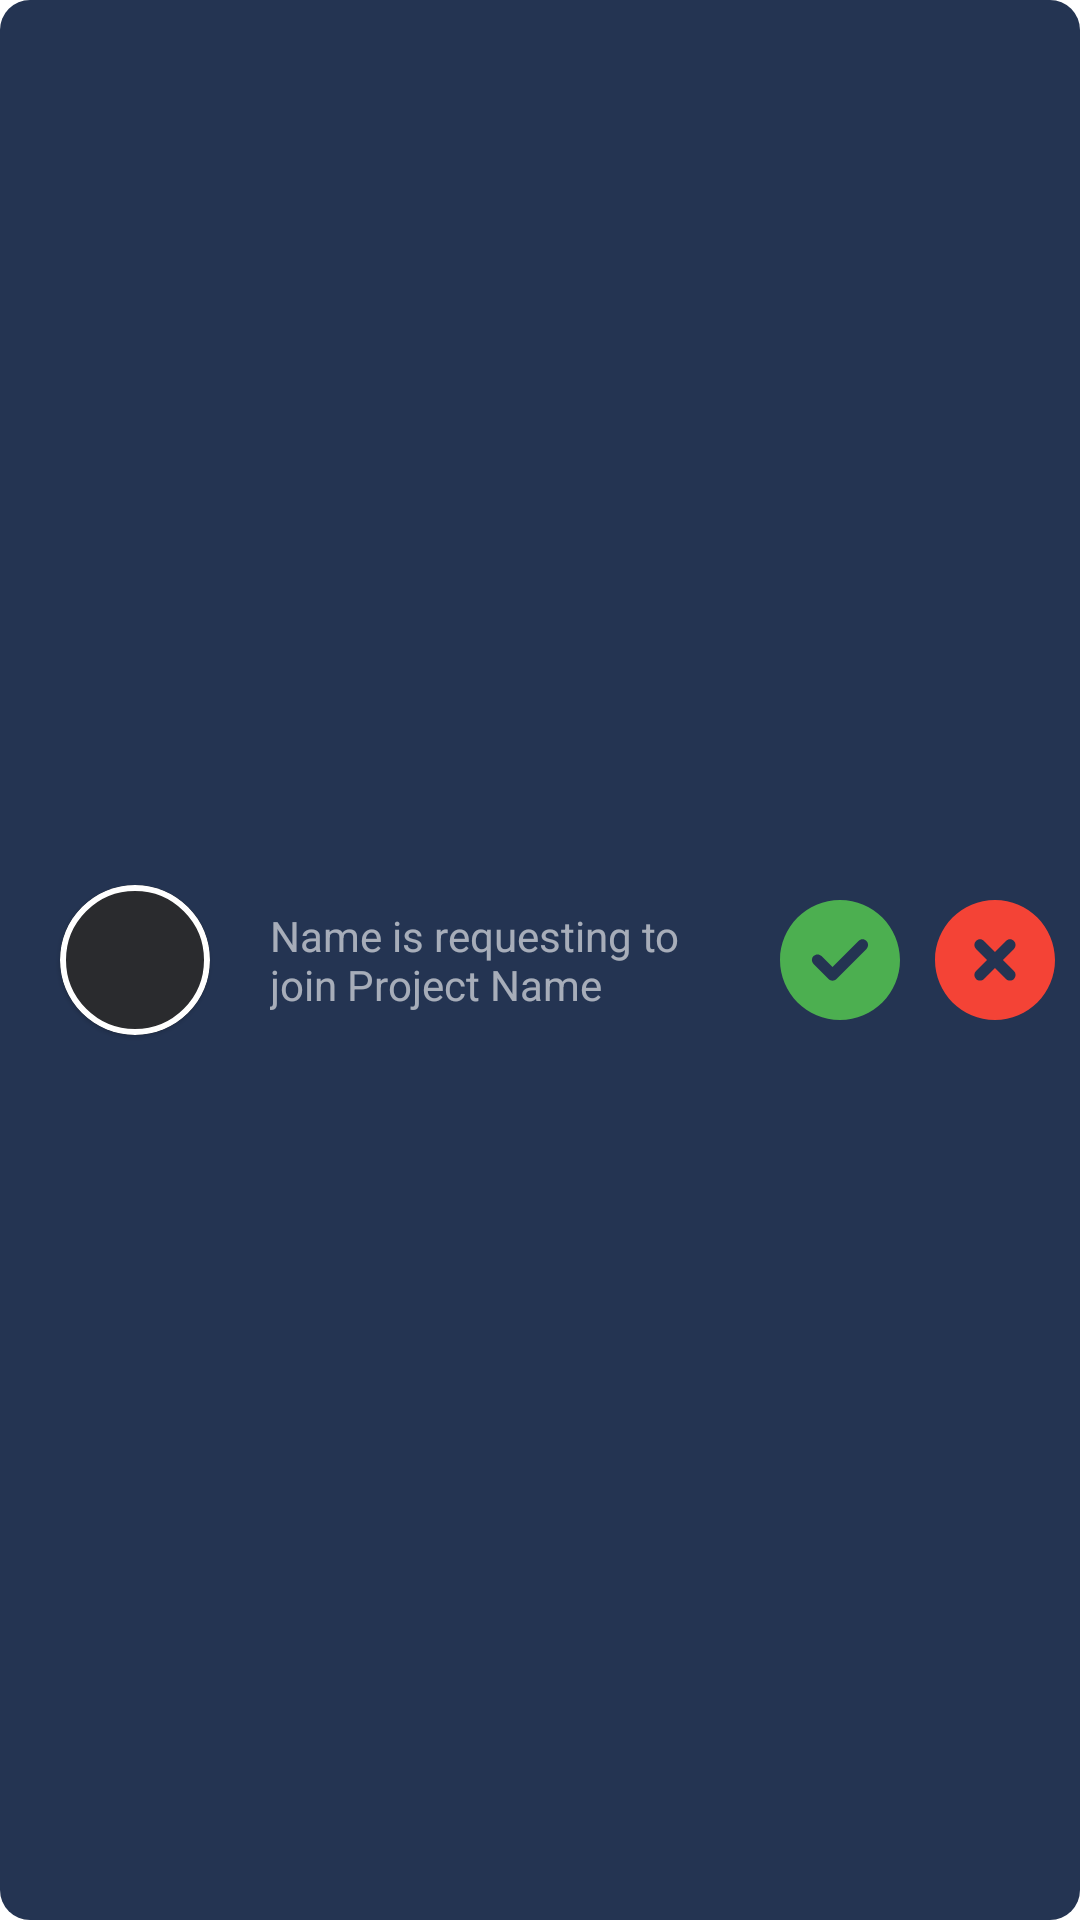

Icons on this 1080x1920 Android screen, each with its box as (x1, y1, x2, y2):
circle check: (780, 900, 900, 1020)
circle xmark: (935, 900, 1055, 1020)
